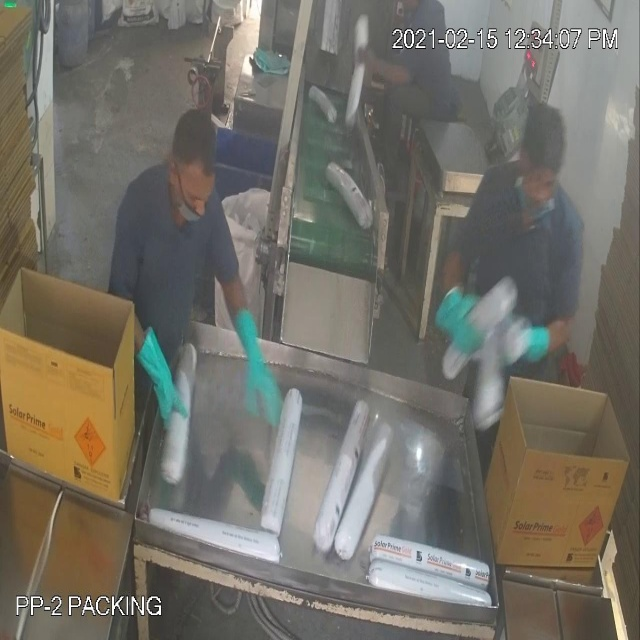Guantes: (232, 287, 290, 436), (130, 304, 190, 439)
Sin_guantes: (355, 43, 413, 99)
